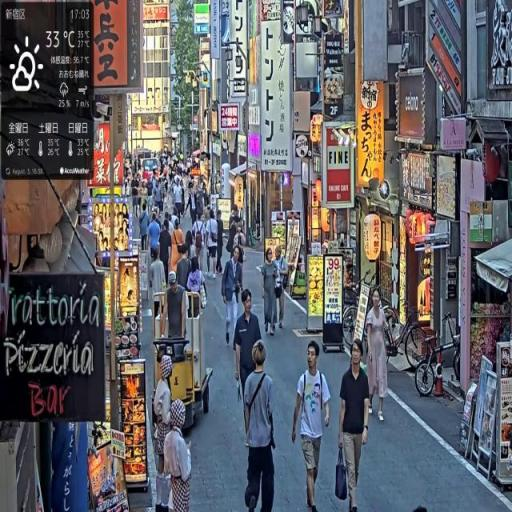person: (292, 340, 333, 512), (243, 341, 277, 512), (338, 339, 371, 512), (234, 288, 263, 430), (364, 288, 393, 424), (164, 411, 194, 512), (221, 247, 245, 350), (164, 272, 189, 344), (261, 247, 279, 339), (150, 247, 167, 342), (273, 245, 290, 334), (188, 254, 209, 319), (159, 219, 174, 288), (148, 212, 162, 266), (215, 209, 225, 275), (140, 204, 153, 253)
